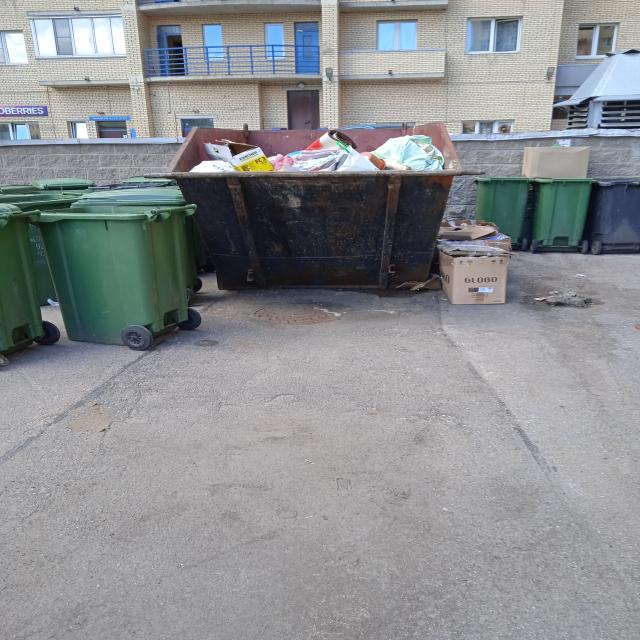bin: (170, 169, 462, 283), (28, 196, 220, 354)
trash: (195, 126, 455, 172)
